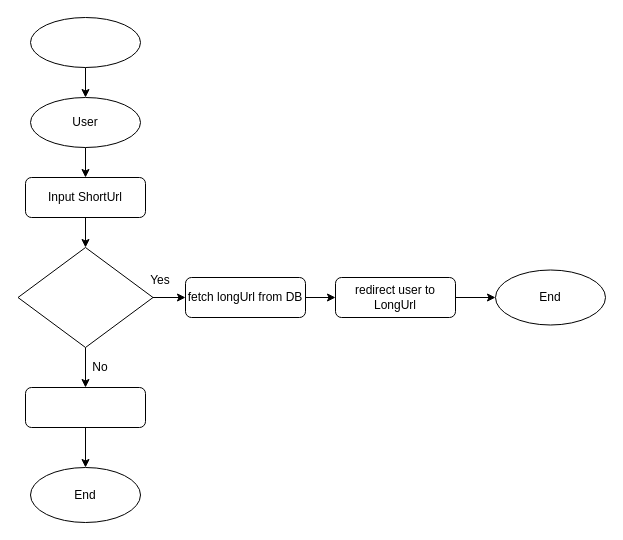
Some shapes in this 623 by 540 pixel diagram are drawn without their labels. The shapes that lost their labels are listed below. From the top down, each one's centre as x and y in pixels, then its label:
[85,42]: start
[85,297]: shortUrl exists in DB
[85,407]: Return InvalidUrlException
